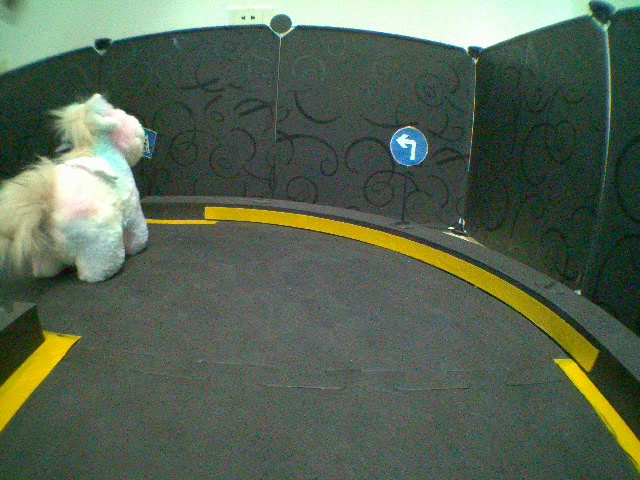unicorn: (1, 93, 154, 285)
